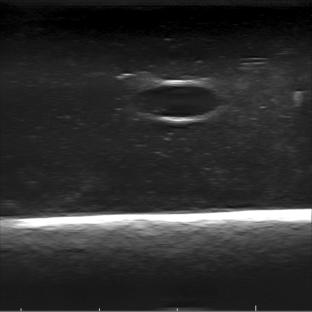vessel: (131, 78, 223, 123)
